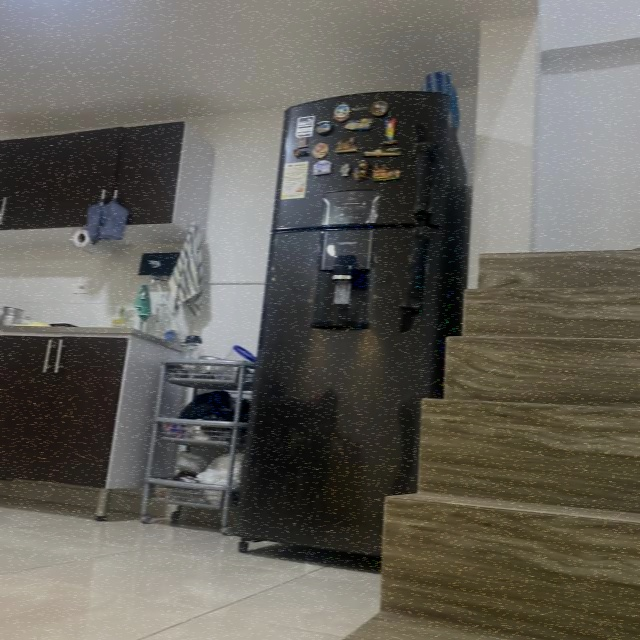obstacle: (195, 50, 470, 593), (0, 303, 169, 524), (113, 340, 265, 534)
stair: (314, 233, 639, 640)
